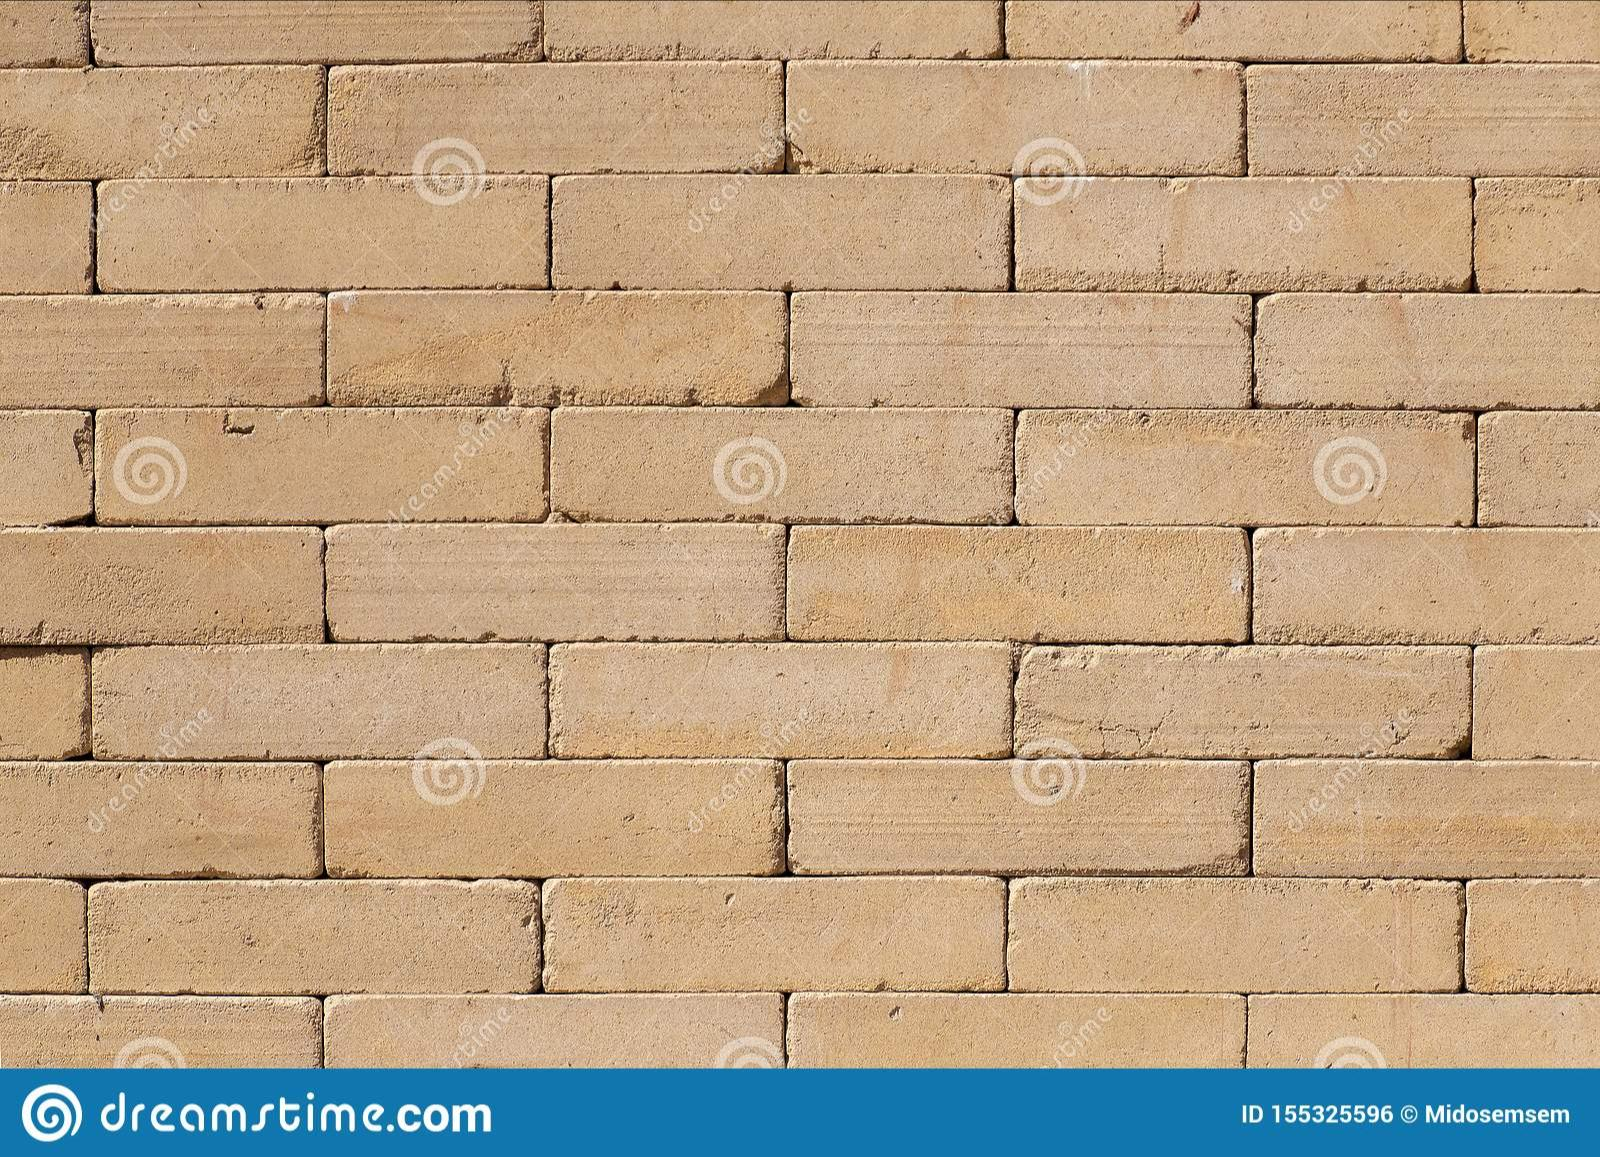brick: (325, 758, 784, 877), (328, 57, 781, 178), (550, 406, 1012, 523), (794, 290, 1251, 408), (788, 758, 1248, 875), (544, 875, 1007, 990), (789, 524, 1247, 641), (1017, 408, 1475, 524), (328, 524, 784, 641), (96, 174, 547, 292), (92, 643, 545, 759), (97, 408, 549, 524), (785, 60, 1246, 174), (550, 644, 1010, 758), (553, 174, 1010, 288), (1017, 176, 1473, 291), (87, 879, 538, 994), (328, 290, 783, 404), (1009, 876, 1462, 990), (1015, 644, 1472, 757), (1253, 524, 1600, 641), (1253, 761, 1600, 876), (1248, 61, 1600, 174), (1255, 295, 1600, 408), (0, 524, 323, 643), (0, 290, 324, 406), (0, 762, 323, 876), (0, 65, 325, 176), (788, 993, 1245, 1066), (325, 993, 783, 1066), (92, 0, 543, 67), (1004, 0, 1463, 60), (544, 0, 1001, 57), (1248, 994, 1600, 1068), (0, 993, 320, 1066)
